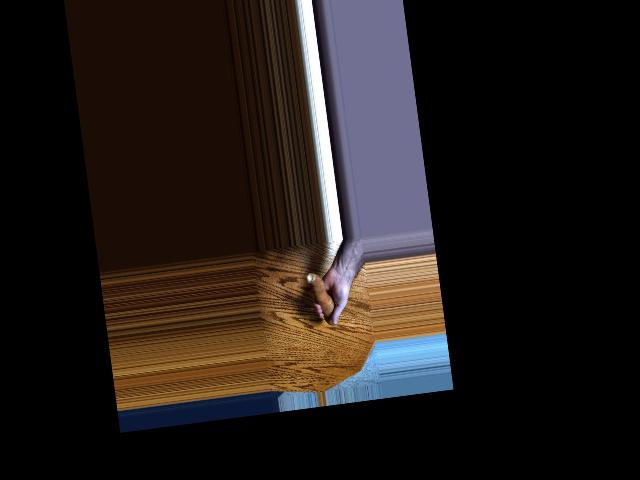sweet_potato: (306, 267, 337, 330)
